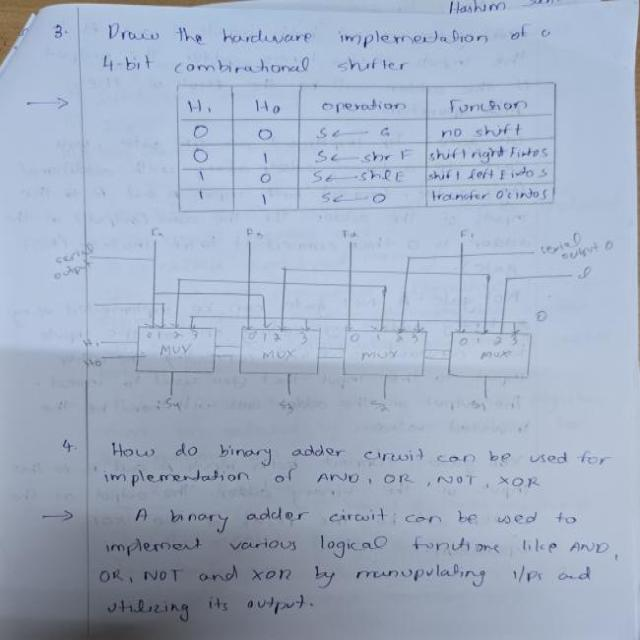Figure Detection - v3 Dataset Version2: (76, 215, 618, 422)
